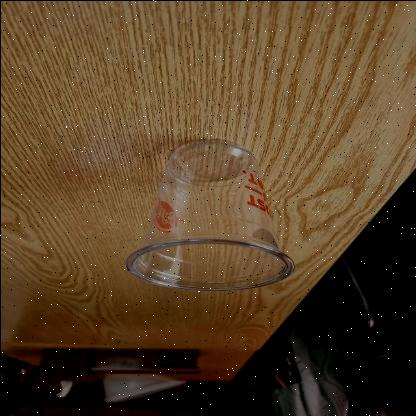Others: (118, 133, 298, 294)
